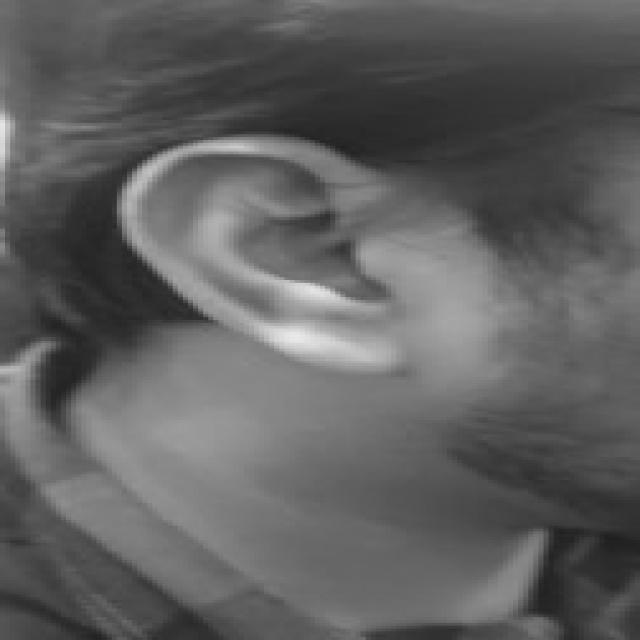ear: (122, 131, 396, 371)
